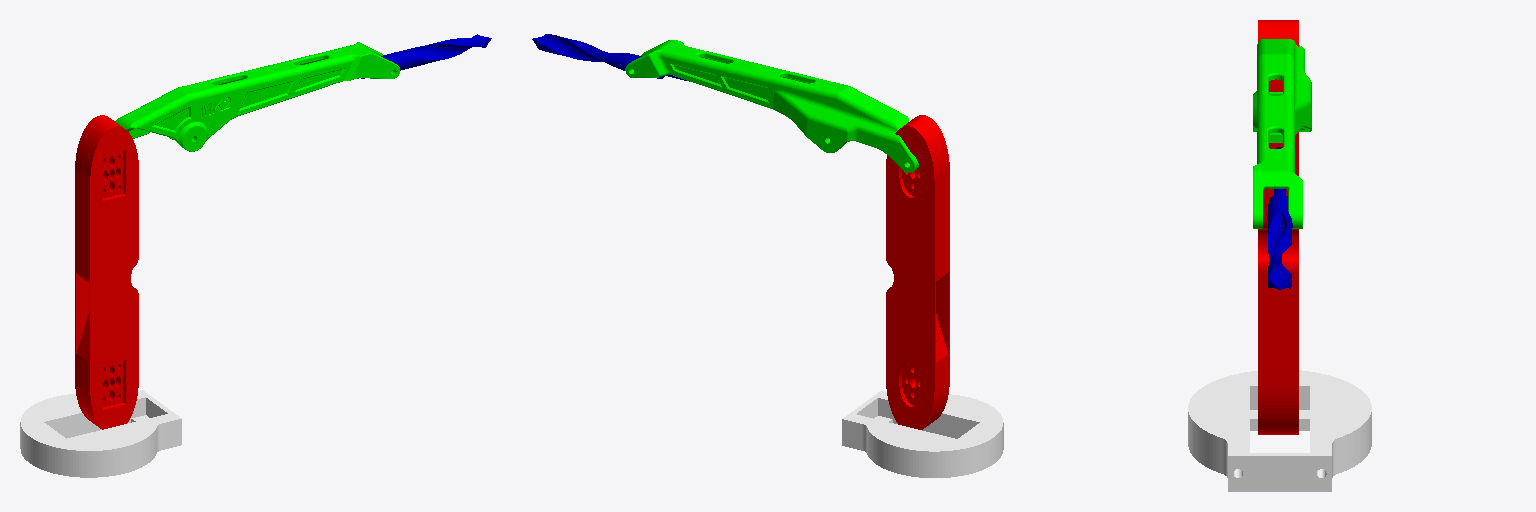
The robot description file, URDF, robot "RRP":
<?xml version="1.0"?>
<robot name="RRP">

	<material name="blue">
        <color rgba="0 0 0.8 1"/>
	</material>

	<material name="white">
        <color rgba="1 1 1 1"/>
	</material>

	<material name="red">
        <color rgba="1 0 0 0.8" />
	</material>

	<material name="green">
        <color rgba="0 1 0 0.8" />
	</material>


	<link name="base_link">
        <visual>
            <geometry>
                <mesh filename = "mesh/base.stl"/>
            </geometry>
            <material name="white"/>
        </visual>
        <collision>
            <geometry>
               <cylinder length="0.5" radius="1"/>
            </geometry>
        </collision>
	</link>

	<link name="rotatable1">
        <visual>
            <geometry>
                 <mesh filename = "mesh/center.stl"/>
            </geometry>
            <origin xyz="0 0 2"/>
            <material name="red"/>
        </visual>
        <collision>
            <geometry>
               <box size="0.4 0.4 4"/>
            </geometry>
        </collision>
	</link>

    <joint name="base_link_to_rotatable_1" type="revolute">
        <axis xyz="0 1 0"/>
        <limit effort="1000.0" lower="0.0" upper="1" velocity="0.5"/>
        <parent link="base_link"/>
        <child link="rotatable1"/>
        <origin xyz="0 0 0.25"/>
	</joint>

    <link name="rotatable2">
        <visual>
            <geometry>
                <mesh filename = "mesh/upper.stl"/>
            </geometry>
            <origin xyz="2 0 0"/>
            <material name="green"/>
         </visual>
       <collision>
            <geometry>
               <box size="4 0.4 0.4"/>
            </geometry>
       </collision>

	</link>

	<joint name="rotatable_1_to_rotatable_2" type="revolute">
        <axis xyz="0 1 0"/>
        <limit effort="1000.0" lower="0.0" upper="1" velocity="0.5"/>
        <parent link="rotatable1"/>
        <child link="rotatable2"/>
        <origin xyz="0 0 4"/>
	</joint>

    <link name="prismatic">
        <visual>
            <geometry>
                <mesh filename = "mesh/drill.stl"/> 
            </geometry>
            <origin xyz="1 0 0"/>
            <material name="blue"/>
        </visual>
       <collision>
            <geometry>
               <box size="2 0.2 0.2"/>
            </geometry>
       </collision>
	</link>

	<joint name="rotatable_2_to_prismatic" type="prismatic">
        <parent link="rotatable2"/>
        <child link="prismatic"/>
        <limit effort="1000.0" lower="-1" upper="1" velocity="0.5"/>
        <origin xyz="3 0 0"/>
	</joint>

	<link name="end_link"/>

	<joint name="prismatic_to_end_link" type="fixed">
        <parent link="prismatic"/>
        <child link="end_link"/>
        <origin xyz="1 0 0"/>
	</joint>
    
</robot>

--- Facts derived from the render (not from the file) ---
The picture shows the robot from 3 angles, left to right: view 1: azimuth 30°, elevation 25°; view 2: azimuth 150°, elevation 25°; view 3: azimuth 270°, elevation 25°; orthographic projection.
Robot: RRP — 5 links, 4 joints (2 revolute, 1 prismatic, 1 fixed); root link base_link; default pose: all joints at 0.
Links seen in each view (by area): view 1: rotatable1, rotatable2, base_link, prismatic; view 2: rotatable1, rotatable2, base_link, prismatic; view 3: base_link, rotatable1, rotatable2, prismatic.
Link boxes in pixels (x1,y1,x2,y2): rotatable1: (75, 115, 138, 429); rotatable2: (115, 42, 399, 151); base_link: (20, 390, 181, 477); prismatic: (361, 34, 491, 78); rotatable1: (886, 115, 949, 429); rotatable2: (625, 40, 918, 172); base_link: (842, 390, 1003, 477); prismatic: (532, 34, 689, 81); base_link: (1188, 370, 1371, 491); rotatable1: (1258, 20, 1298, 434); rotatable2: (1253, 39, 1311, 228); prismatic: (1267, 147, 1292, 289).
Bounding box of the posed robot: 6.79 × 1.75 × 4.73 m (x, y, z).
Meshes: 4 distinct files referenced, 4 mesh visuals loaded (4 binary STL).